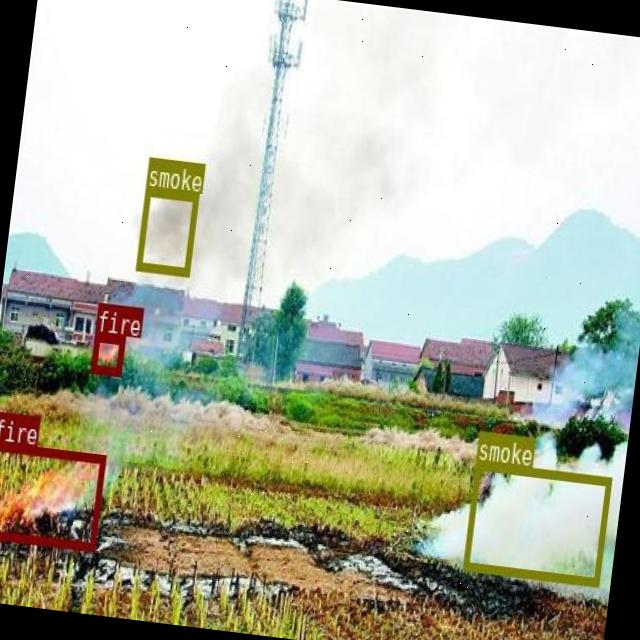fire: (0, 441, 105, 549), (89, 332, 124, 374)
smoke: (462, 460, 610, 585), (135, 184, 198, 274)
